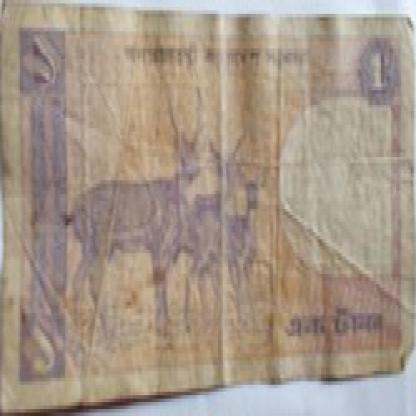One Taka: (283, 302, 384, 346), (23, 312, 62, 381), (22, 31, 65, 90), (361, 45, 396, 97)
